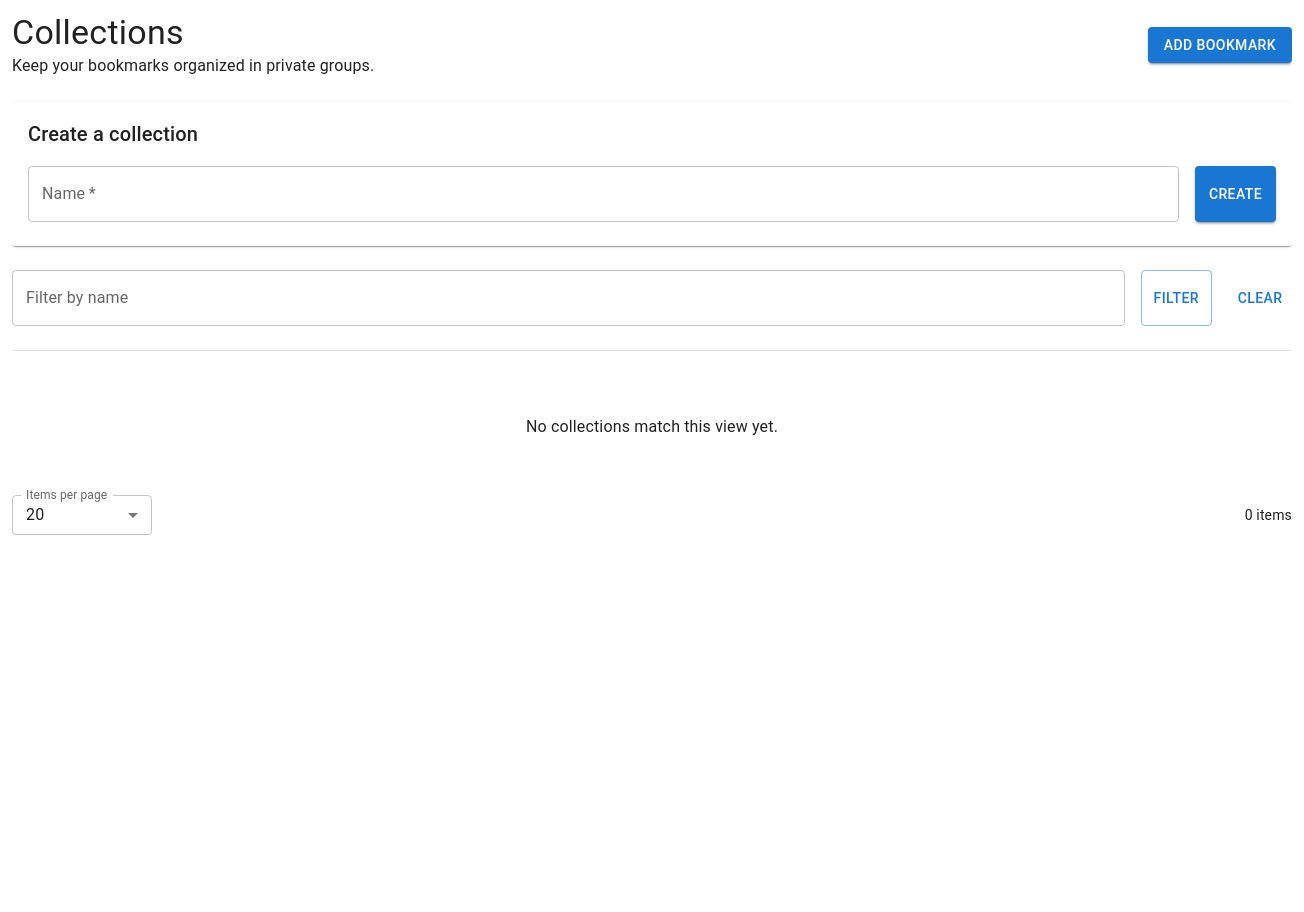
Test: CollectionsPage › fetches the first page again and shows the created collection
Expected: the text "No collections match this view yet." is shown, [526,417,778,436]
Type "New collection" into the field labelled "Name" at x=604, y=194, box [28,166,1179,222]
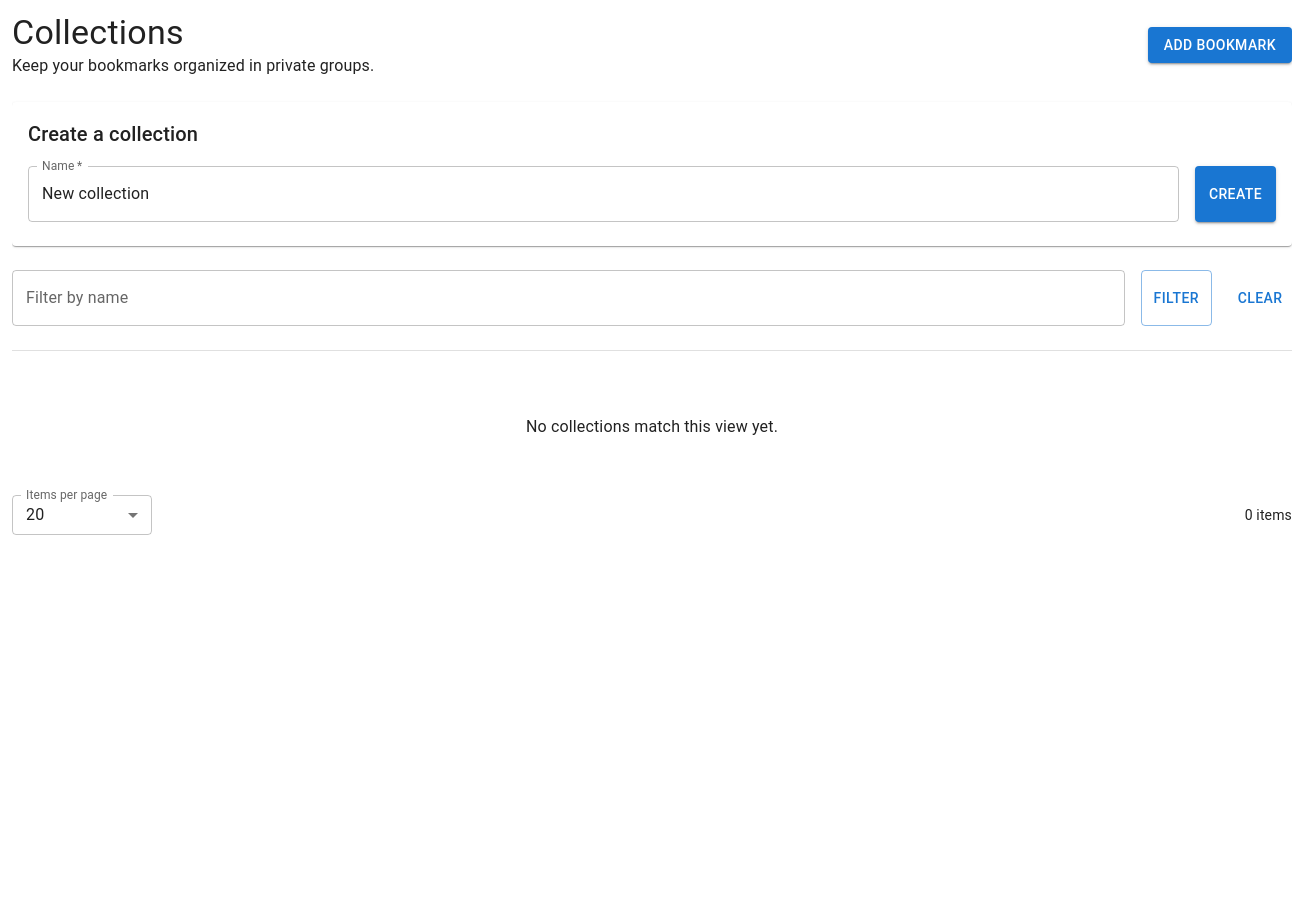
Click the button "Create" at x=1236, y=194, box [1195,166,1276,222]
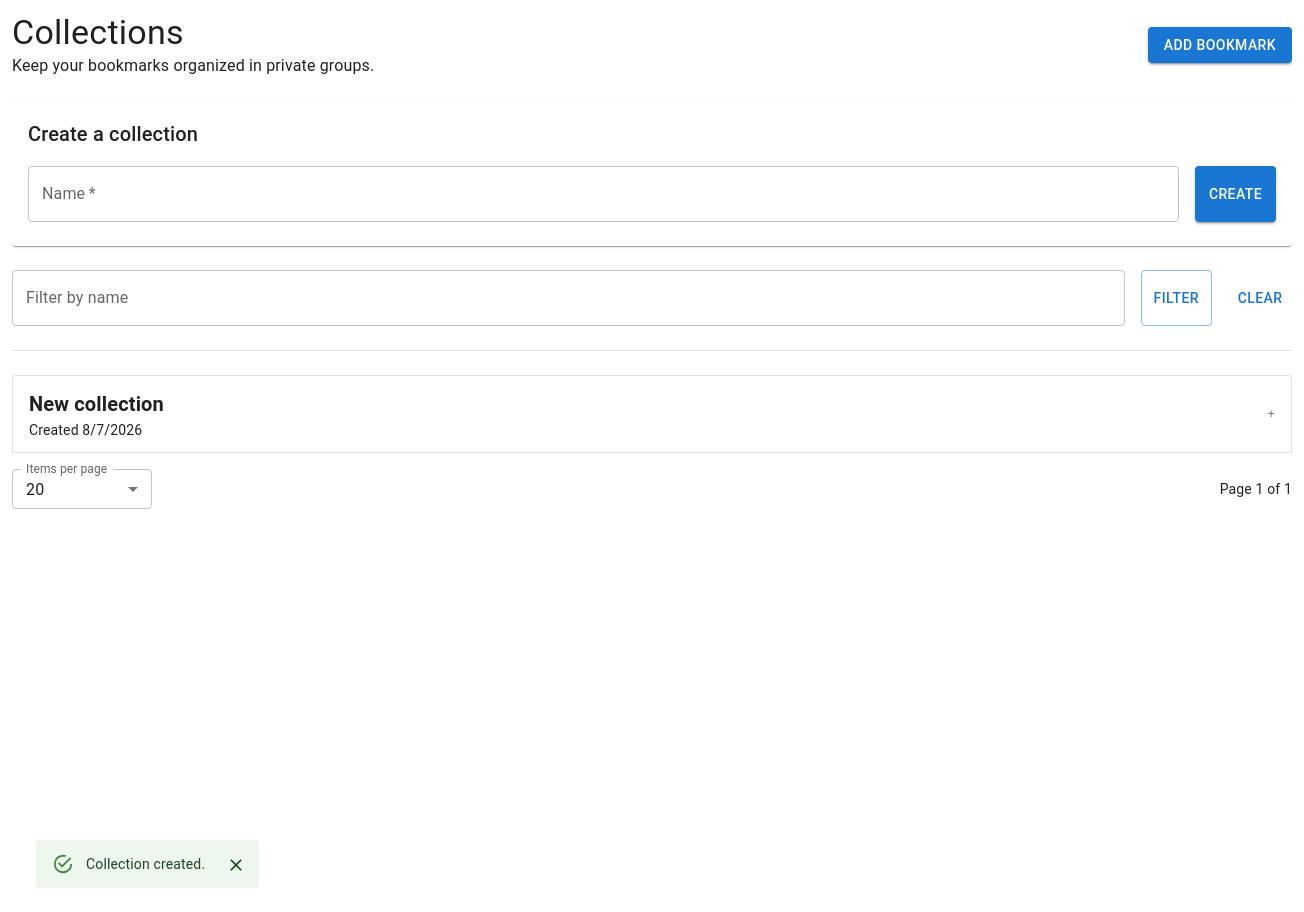
Result: the heading "New collection" is shown at [29,392,164,416]
